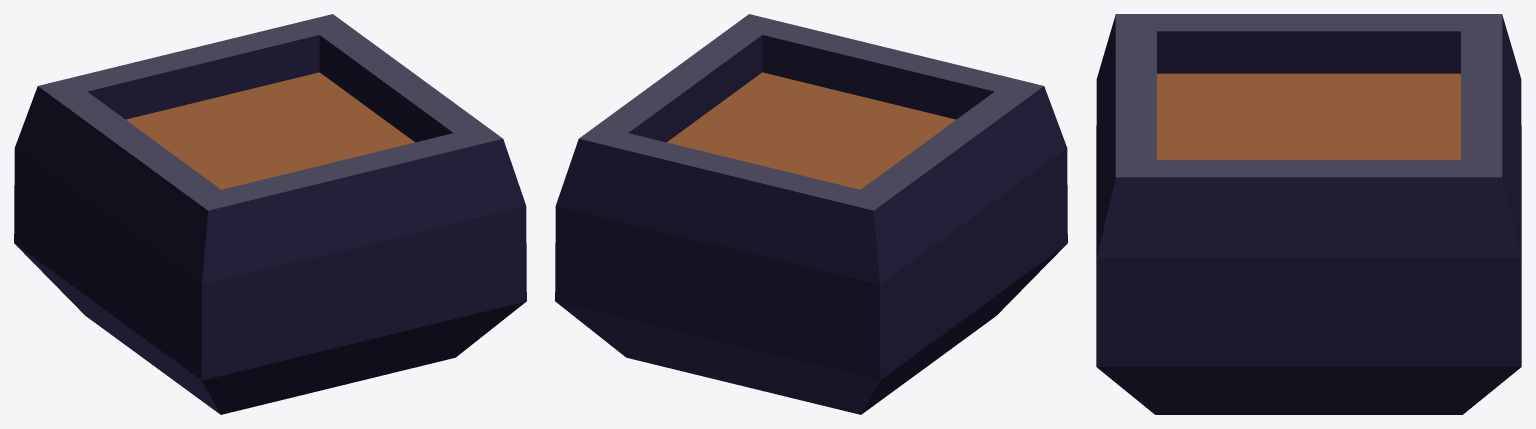
Rendered from pot3.fbx.
3 views of the same model, side by side, from view 1: azimuth 30°, elevation 25°; view 2: azimuth 150°, elevation 25°; view 3: azimuth 270°, elevation 25° (orthographic). The views are drawn at different scales.
Parts seen in each view (by area): view 1: pot3; view 2: pot3; view 3: pot3.
Boxes of the visible parts, x1,y1,x2,y2 form: pot3: (14,14,526,414); pot3: (555,14,1067,414); pot3: (1096,14,1521,414).
Size of the model in its own units: 22.18 by 14.63 by 22.18.
